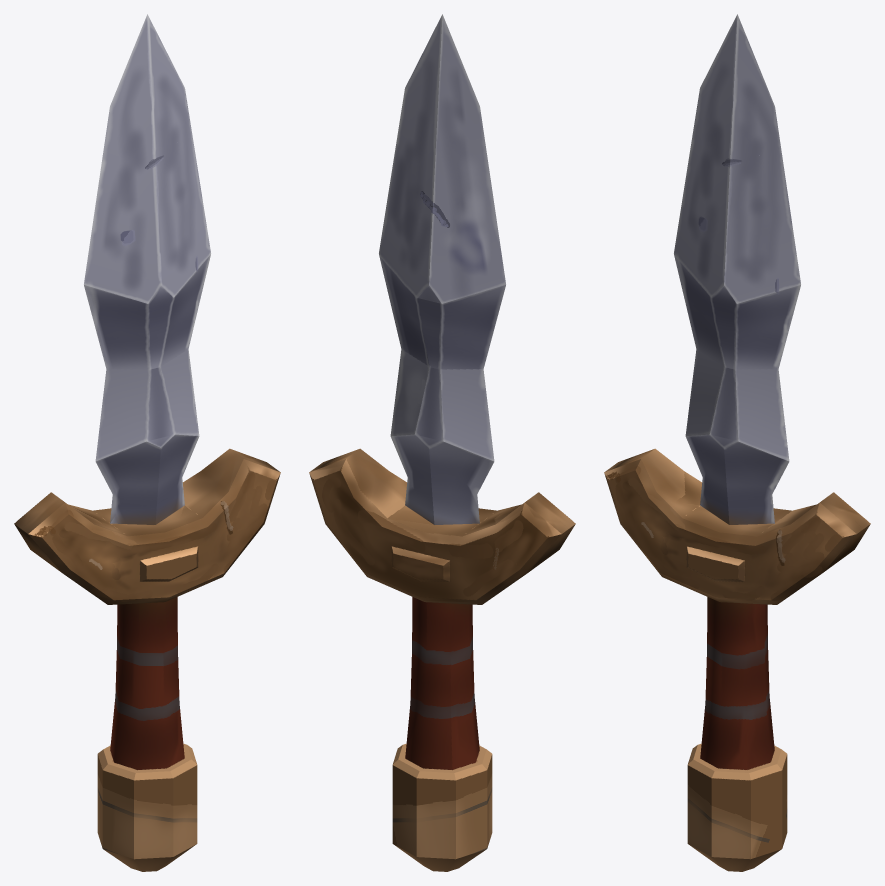
File: weapon.fbx
3 renders of one model, left to right at view 1: azimuth 30°, elevation 25°; view 2: azimuth 150°, elevation 25°; view 3: azimuth 330°, elevation 25°, orthographic.
Parts seen in each view (by area): view 1: Cylinder; view 2: Cylinder; view 3: Cylinder.
Part boxes in pixels (left/top/right/bottom): Cylinder: left=14, top=14, right=280, bottom=871; Cylinder: left=309, top=14, right=575, bottom=871; Cylinder: left=604, top=14, right=870, bottom=871.
Size of the model in its own units: 331 by 1064 by 117.
